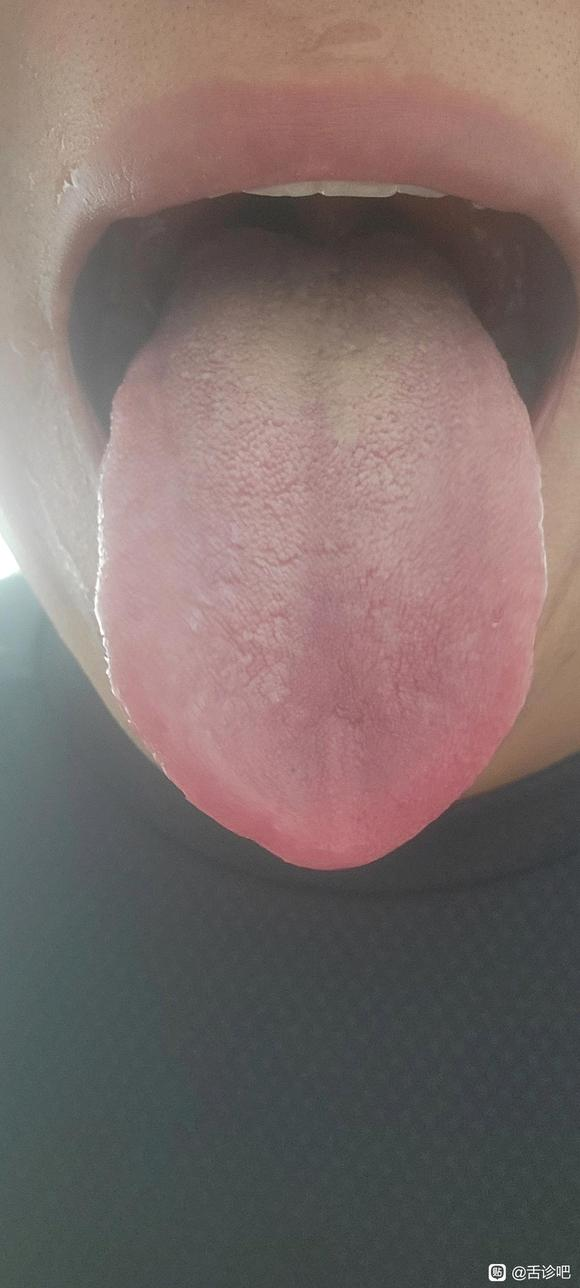hongshe: (94, 225, 547, 871)
huangtaishe: (95, 225, 548, 871)
